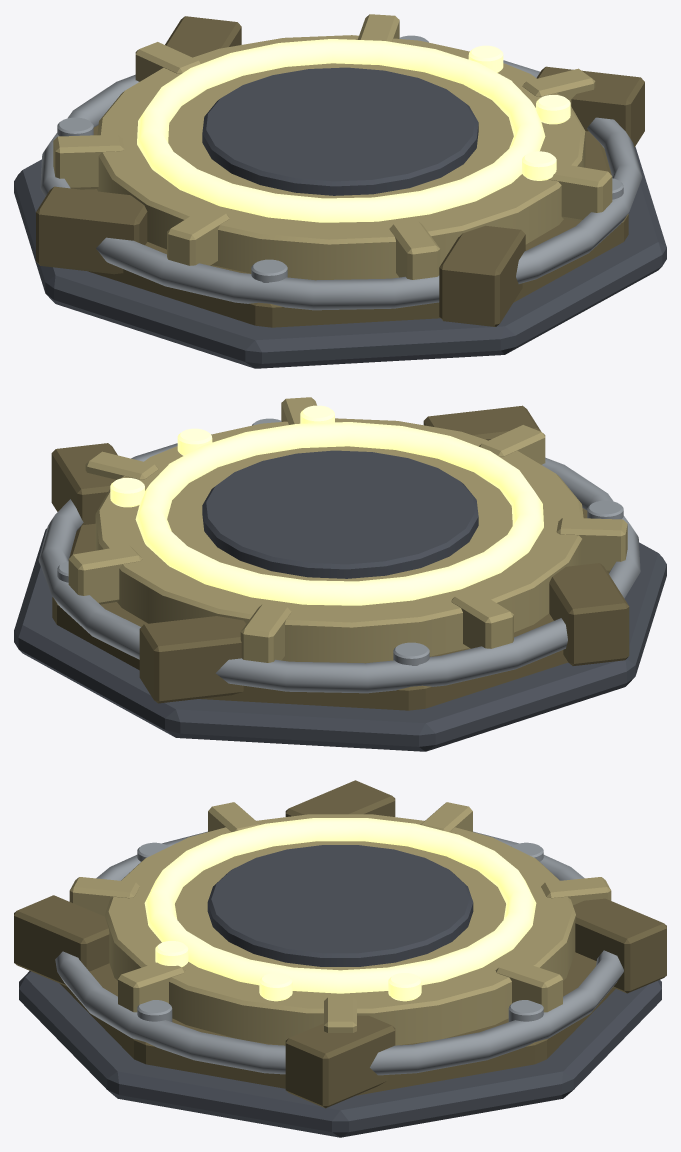
Rendered from flak_base_l3.glb.
3 renders of one model, top to bottom at view 1: azimuth 30°, elevation 25°; view 2: azimuth 150°, elevation 25°; view 3: azimuth 270°, elevation 25°, orthographic. The views are drawn at different scales.
Parts seen in each view (by area): view 1: Cylinder.002, Cylinder, Cylinder.003, Torus.001, Torus, Cylinder.001, Cube.009, Cube.010, Cube.007, Cube.003, Cube.006, Cube.004 (+10 smaller); view 2: Cylinder.002, Cylinder, Cylinder.003, Torus.001, Torus, Cylinder.001, Cube.008, Cube.009, Cube.007, Cube.001, Cube.003, Cube.004 (+10 smaller); view 3: Cylinder.002, Cylinder, Cylinder.003, Torus.001, Torus, Cylinder.001, Cube.007, Cube.010, Cube.008, Cube.009, Cube.001, Cube.006 (+10 smaller).
Boxes of the visible parts, x1,y1,x2,y2 form: Cylinder.002: [97, 35, 585, 279]; Cylinder: [14, 146, 666, 368]; Cylinder.003: [202, 67, 478, 195]; Torus.001: [137, 39, 545, 222]; Torus: [40, 60, 642, 310]; Cylinder.001: [83, 125, 628, 327]; Cube.009: [36, 186, 147, 274]; Cube.010: [439, 225, 525, 326]; Cube.007: [536, 66, 644, 147]; Cube.003: [53, 134, 124, 189]; Cube.006: [548, 163, 612, 221]; Cube.004: [167, 207, 229, 265]; Cylinder.002: [95, 418, 583, 662]; Cylinder: [14, 528, 666, 751]; Cylinder.003: [202, 450, 478, 578]; Torus.001: [135, 422, 543, 605]; Torus: [38, 443, 640, 693]; Cylinder.001: [52, 508, 608, 710]; Cube.008: [139, 616, 246, 703]; Cube.009: [549, 563, 629, 665]; Cube.007: [51, 443, 117, 525]; Cube.001: [68, 545, 142, 604]; Cube.003: [451, 590, 513, 648]; Cube.004: [556, 517, 627, 572]; Cylinder.002: [105, 814, 575, 1045]; Cylinder: [19, 971, 661, 1137]; Cylinder.003: [207, 845, 473, 966]; Torus.001: [144, 818, 536, 993]; Torus: [55, 831, 623, 1075]; Cylinder.001: [60, 952, 615, 1095]; Cube.007: [285, 1015, 395, 1108]; Cube.010: [14, 895, 109, 986]; Cube.008: [573, 898, 666, 993]; Cube.009: [285, 780, 395, 816]; Cube.001: [495, 959, 562, 1012]; Cube.006: [118, 962, 185, 1012].
Bounding box in the file's own units: 2.16 × 0.4 × 2.16.
